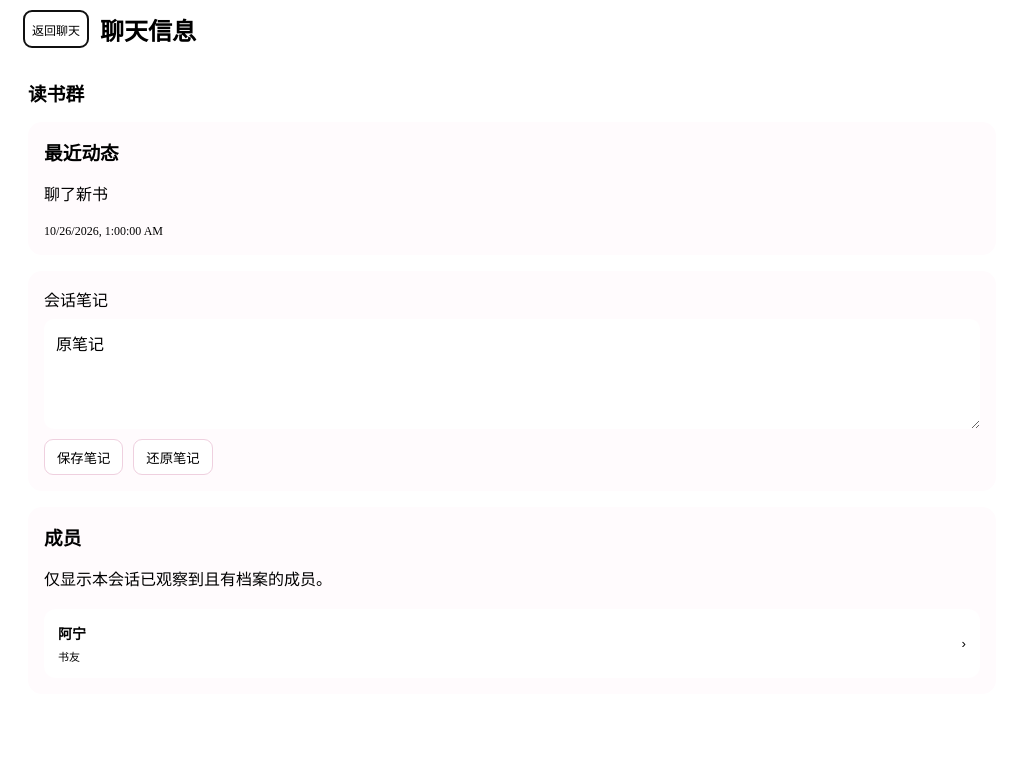
删除共享档案要明确确认，返回后原笔记草稿仍在
In the text box labelled "会话笔记": (512, 374) left=44, top=319, right=980, bottom=429, type "草稿"
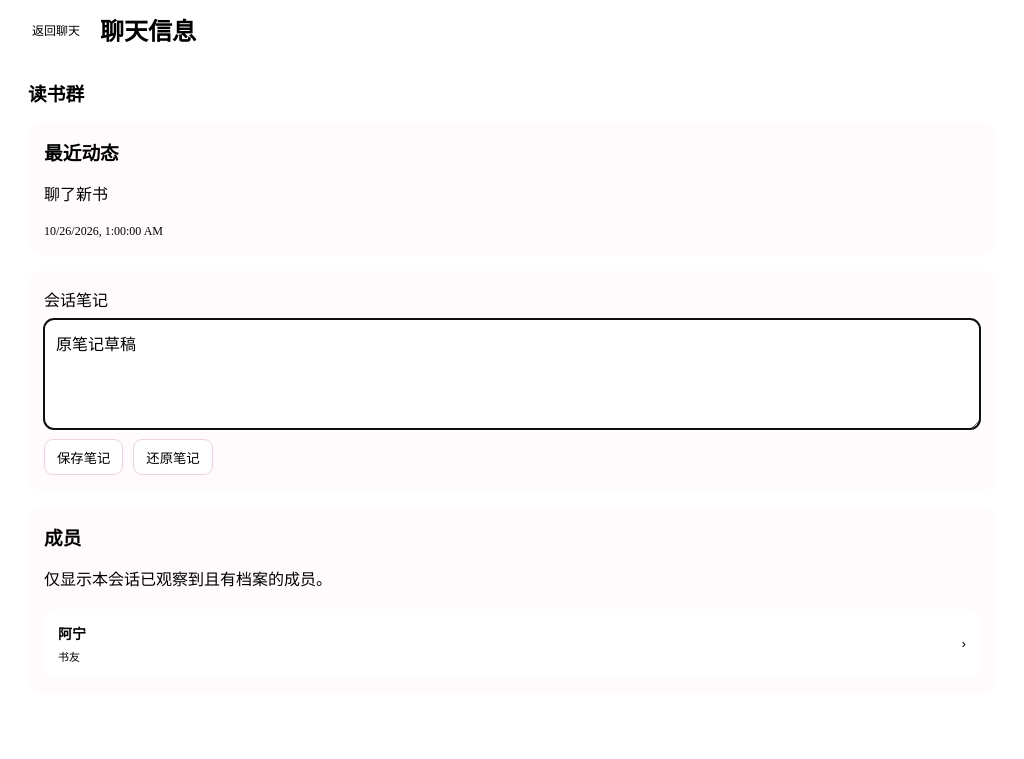
Click the button "阿宁 书友 ›": (72, 634) left=44, top=609, right=980, bottom=678
(page scrolled)
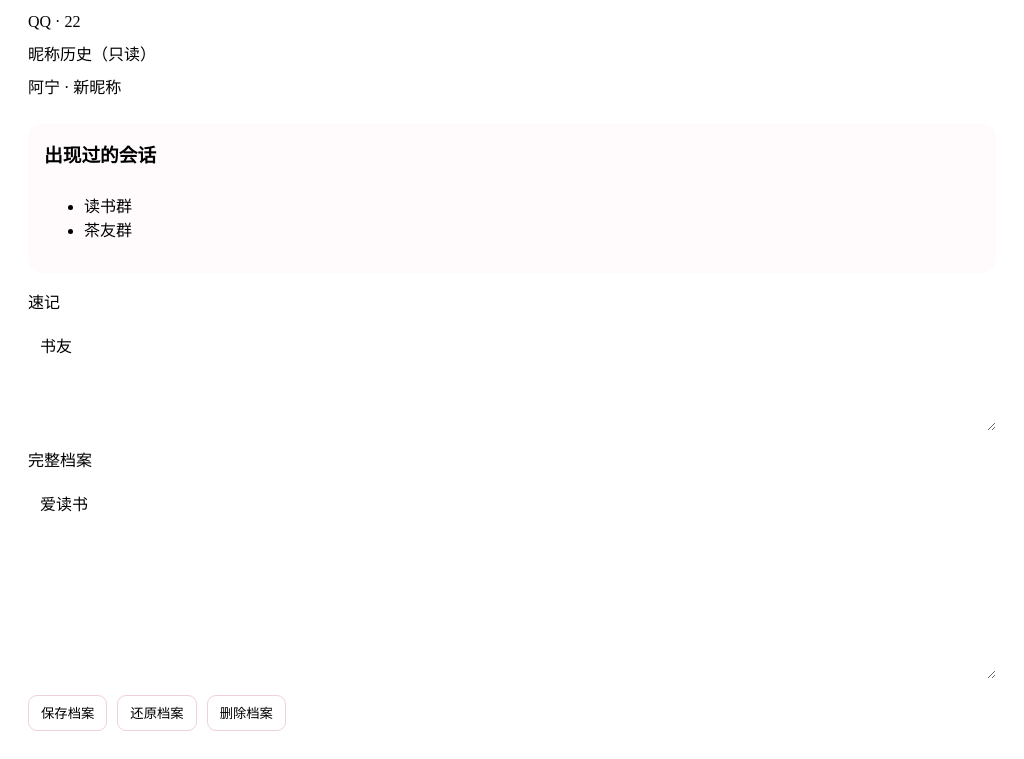
Click the button "删除档案": (246, 713) left=207, top=695, right=286, bottom=731
(page scrolled)
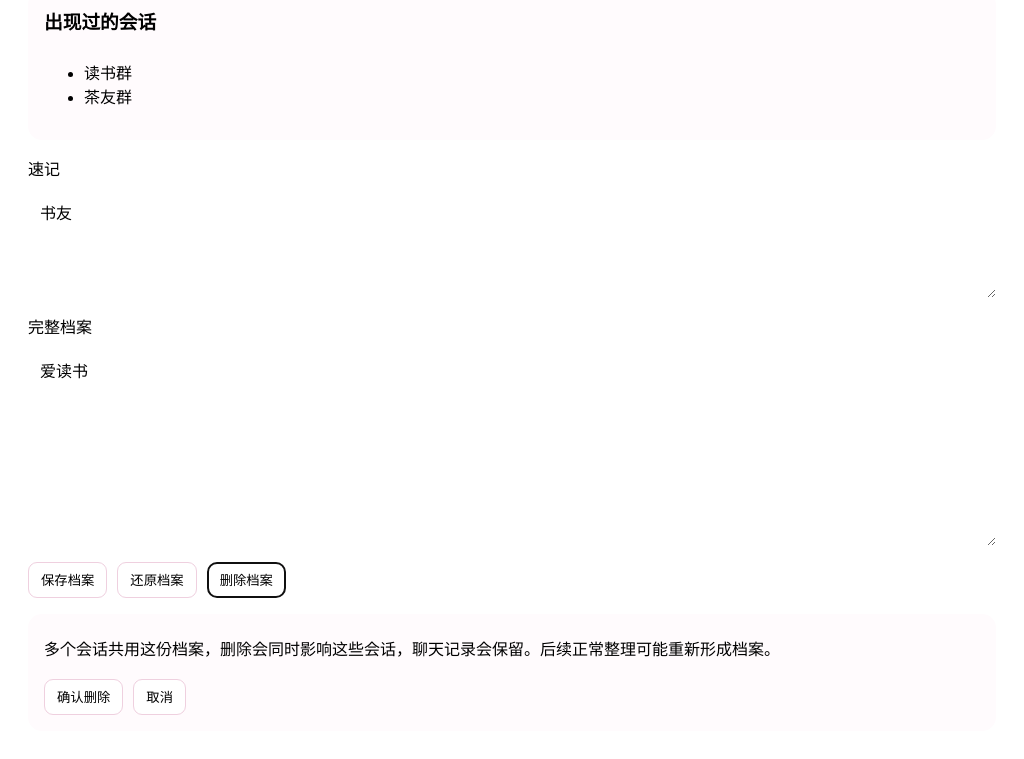
Now the dialog shows "多个会话共用", box left=44, top=641, right=780, bottom=658
Click the button "确认删除": (84, 697) left=44, top=679, right=123, bottom=715
(page scrolled)
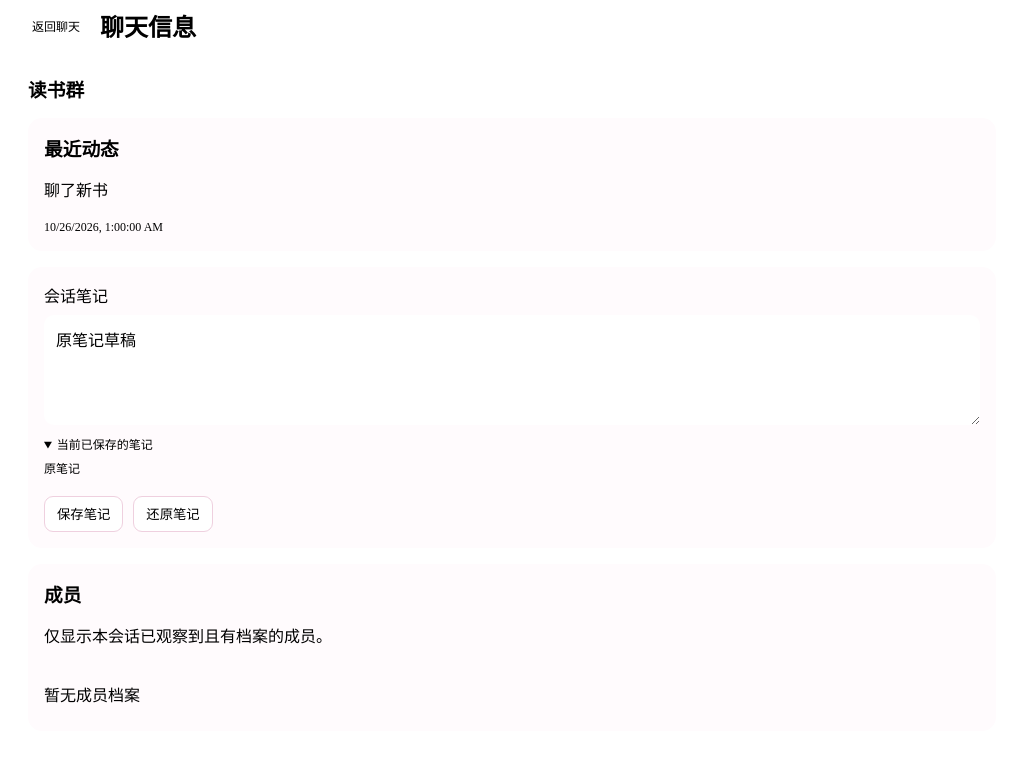
Now the text "暂无成员档案" is shown, box left=44, top=687, right=140, bottom=704
Now the text box labelled "会话笔记" holds "原笔记草稿", box left=44, top=315, right=980, bottom=425
